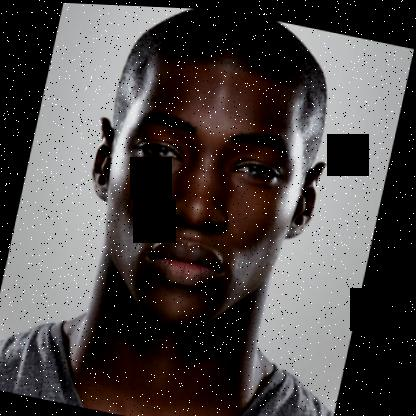Male: (60, 35, 343, 342)
